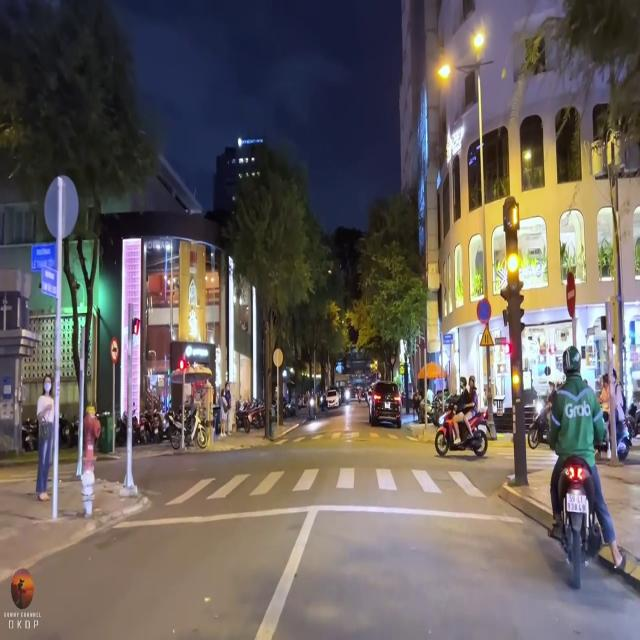bien_trang: (564, 489, 590, 517)
